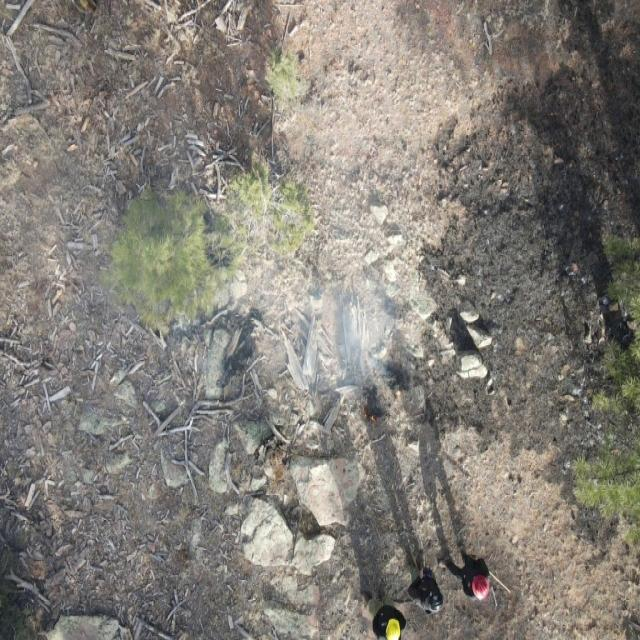fire: (360, 403, 380, 425)
smoke: (31, 183, 458, 462)
